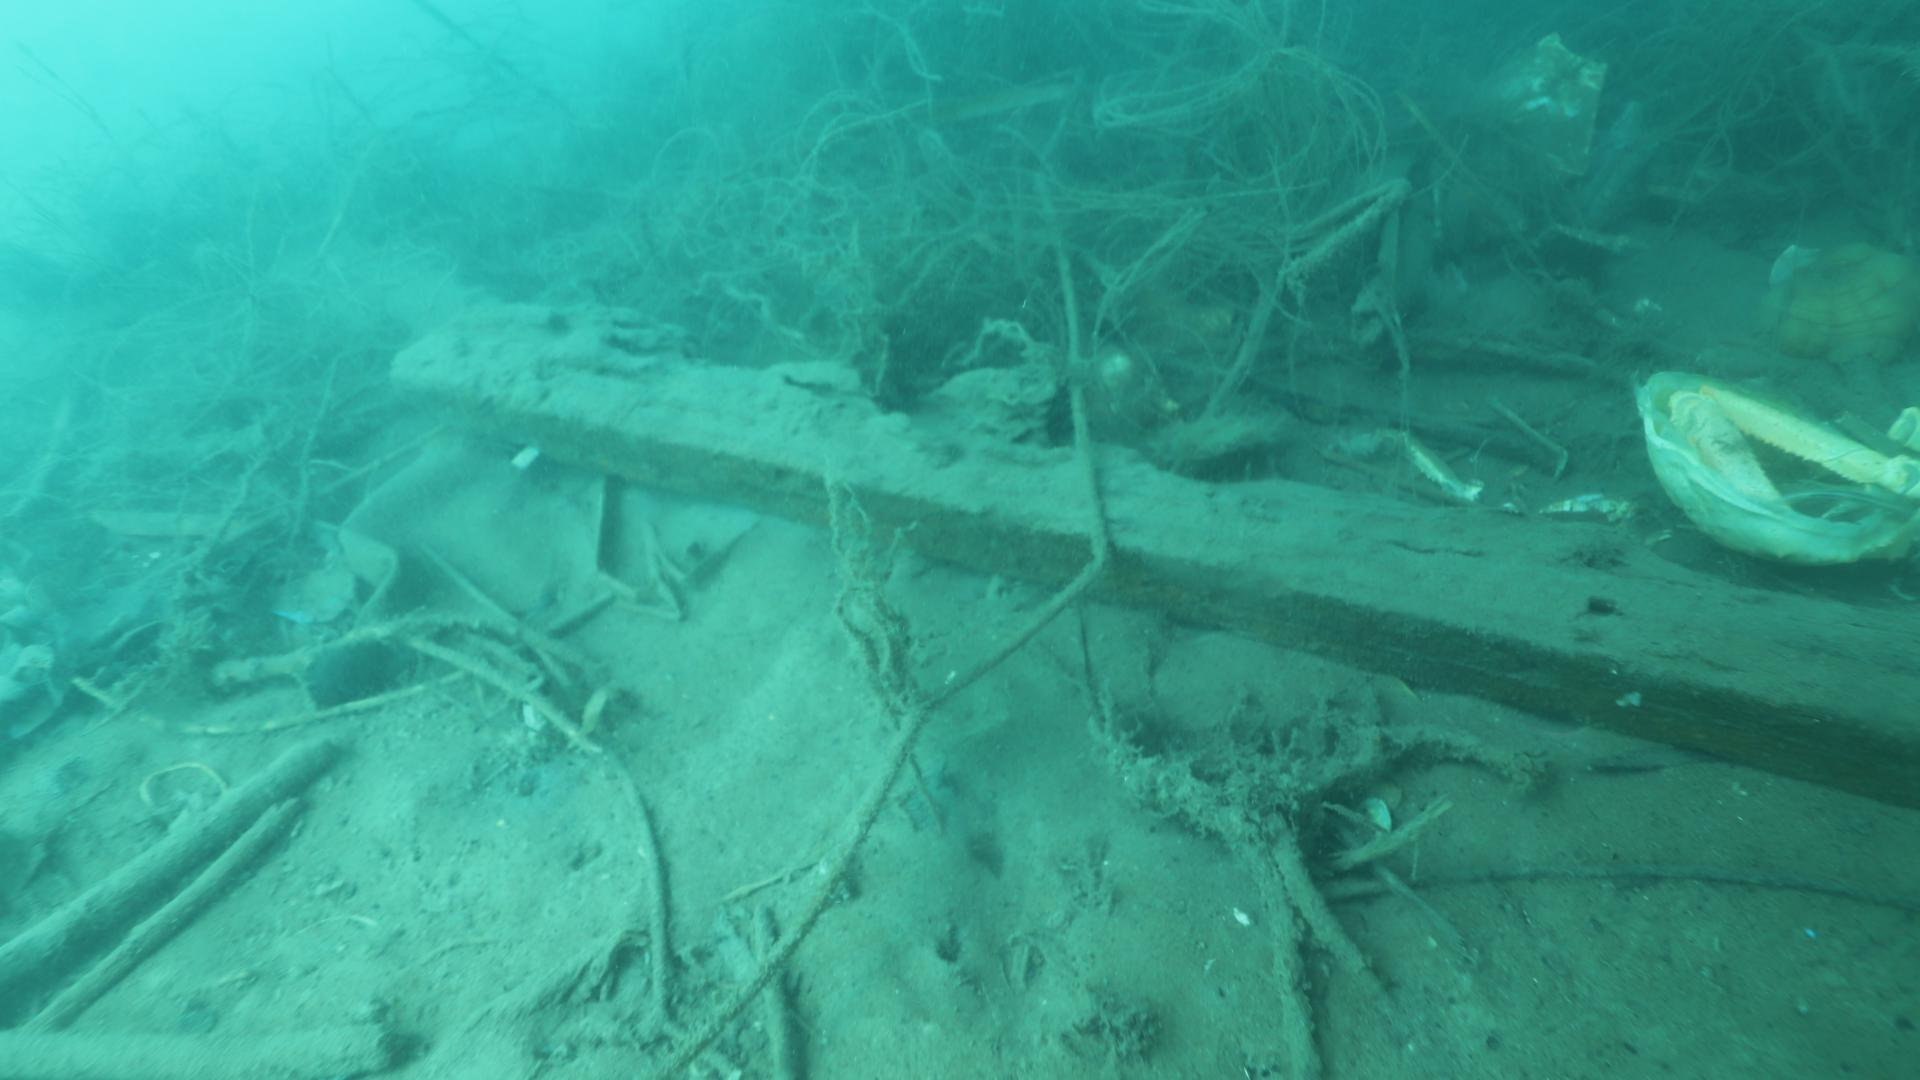wood: (389, 301, 1920, 811)
